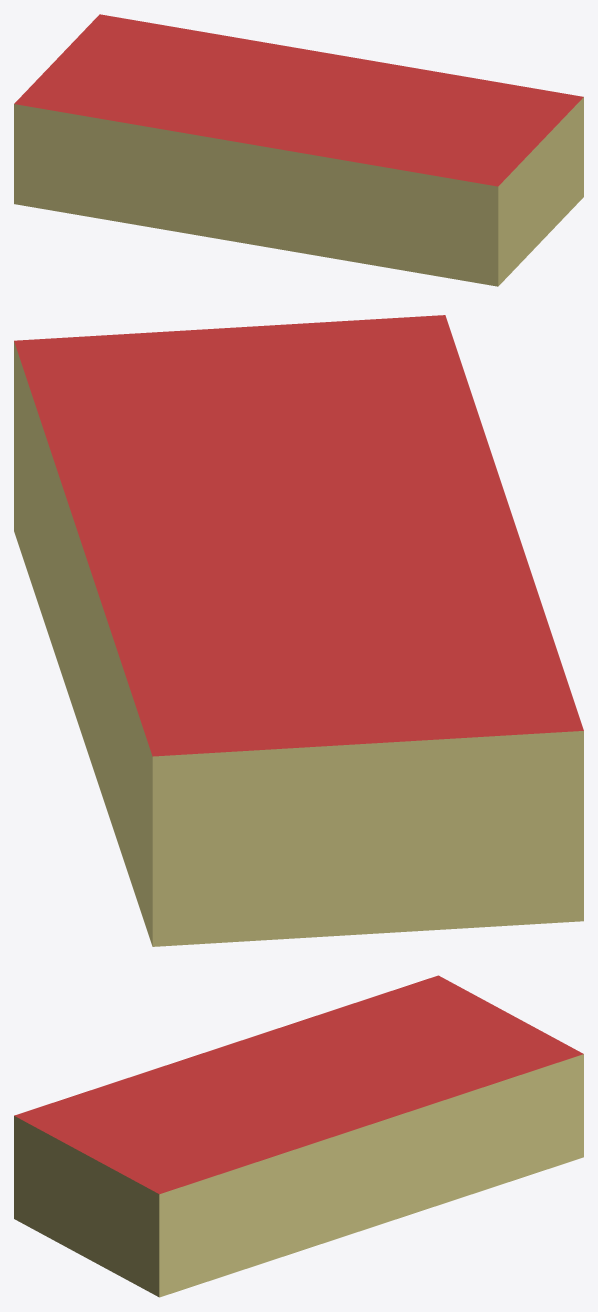
3 views of the same model, one above another, from view 1: azimuth 30°, elevation 25°; view 2: azimuth 150°, elevation 25°; view 3: azimuth 270°, elevation 25° (orthographic). The views are drawn at different scales.
Size of the model in its own units: 25.53 by 28.09 by 5.61.
